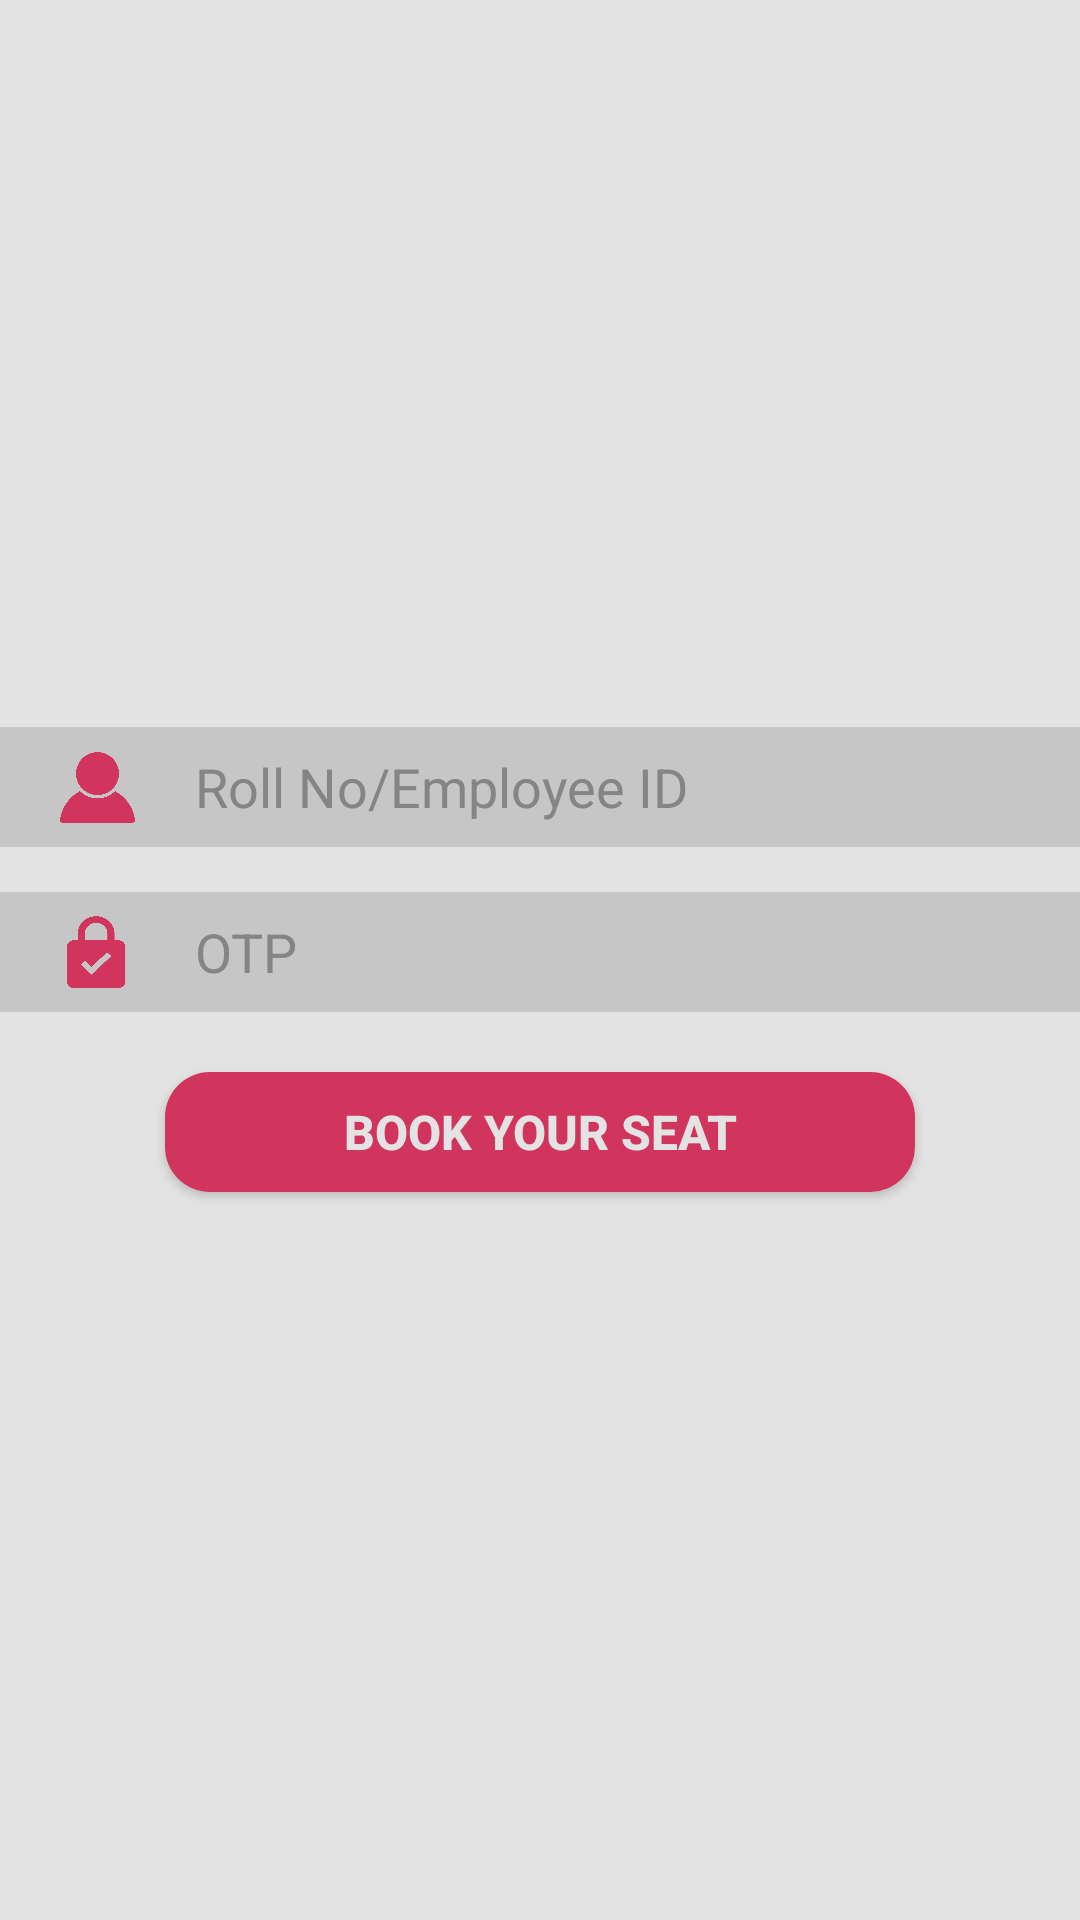

Icons on this 1080x1920 Android screen, each with the point to tap as point (x, y):
passicn: point (96, 952)
usericn: point (97, 787)
